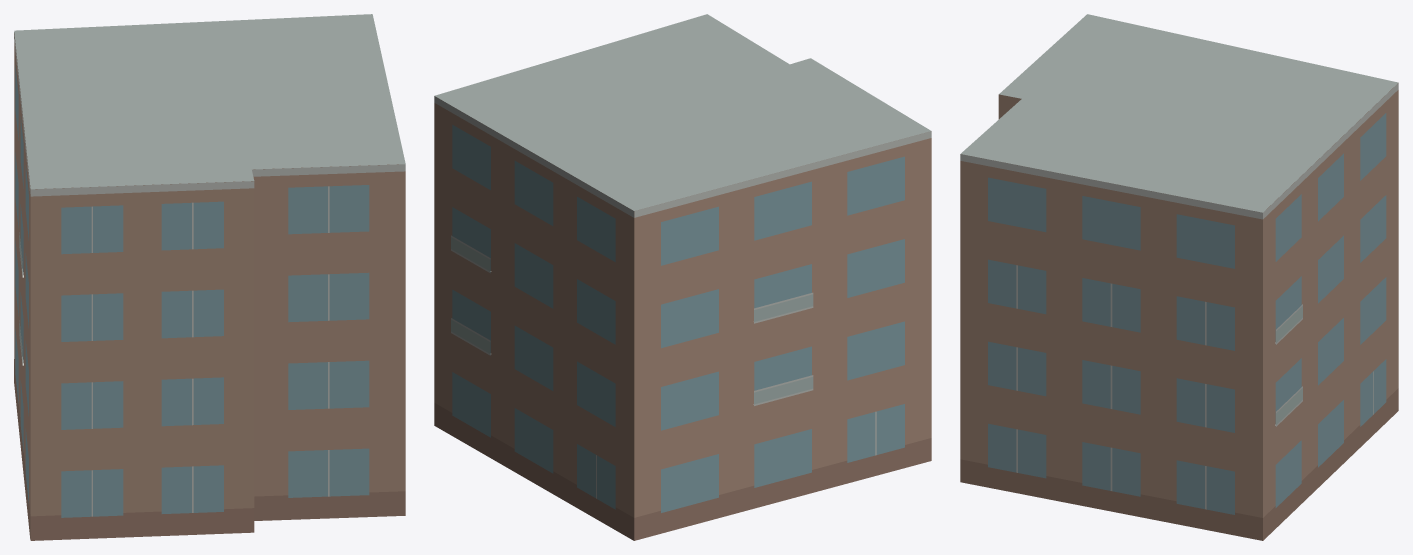
File: survey-upis-33003433.glb
3 renders of one model, left to right at view 1: azimuth 30°, elevation 25°; view 2: azimuth 150°, elevation 25°; view 3: azimuth 270°, elevation 25°, orthographic. The views are drawn at different scales.
Parts seen in each view (by area): view 1: survey-upis-33003433.tmp; view 2: survey-upis-33003433.tmp; view 3: survey-upis-33003433.tmp.
Boxes of the visible parts, left/top/right/bottom form: survey-upis-33003433.tmp: left=14, top=14, right=405, bottom=540; survey-upis-33003433.tmp: left=434, top=14, right=931, bottom=540; survey-upis-33003433.tmp: left=960, top=14, right=1398, bottom=540.
Bounding box in the file's own units: 15.26 × 11.75 × 14.23.
